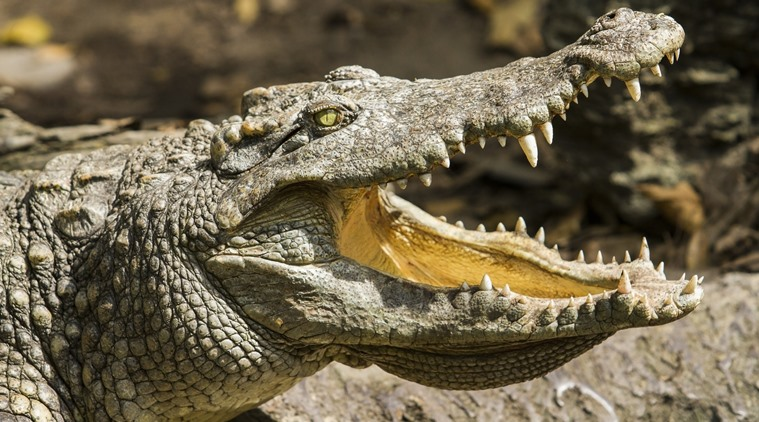Crocodile: (1, 18, 691, 422)
